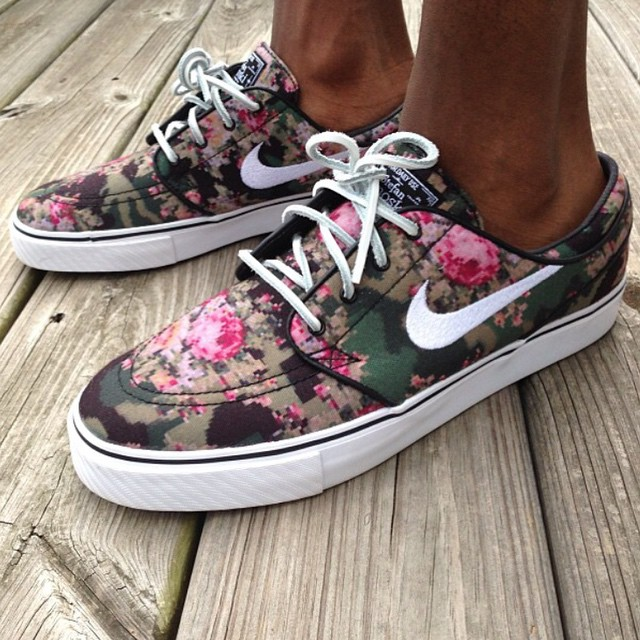sneaker: (39, 113, 640, 548), (1, 25, 443, 292)
